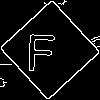F: (25, 25, 57, 72)
